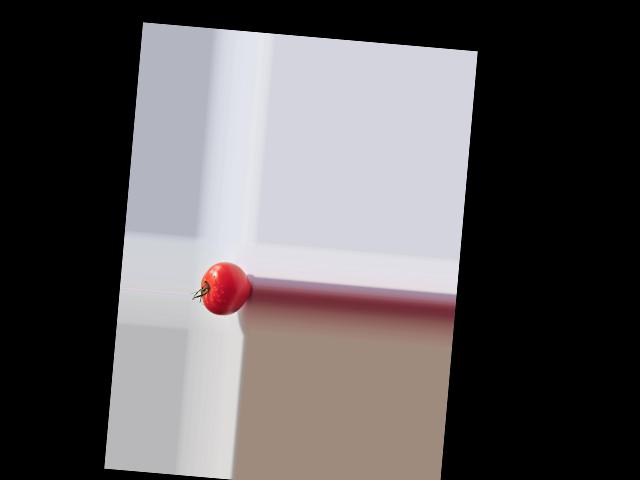tomato: (199, 260, 253, 317)
